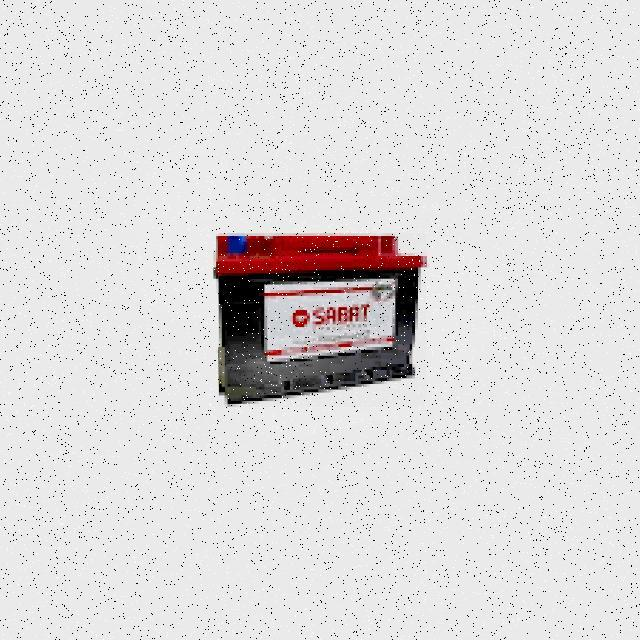B3: (188, 204, 442, 430)
